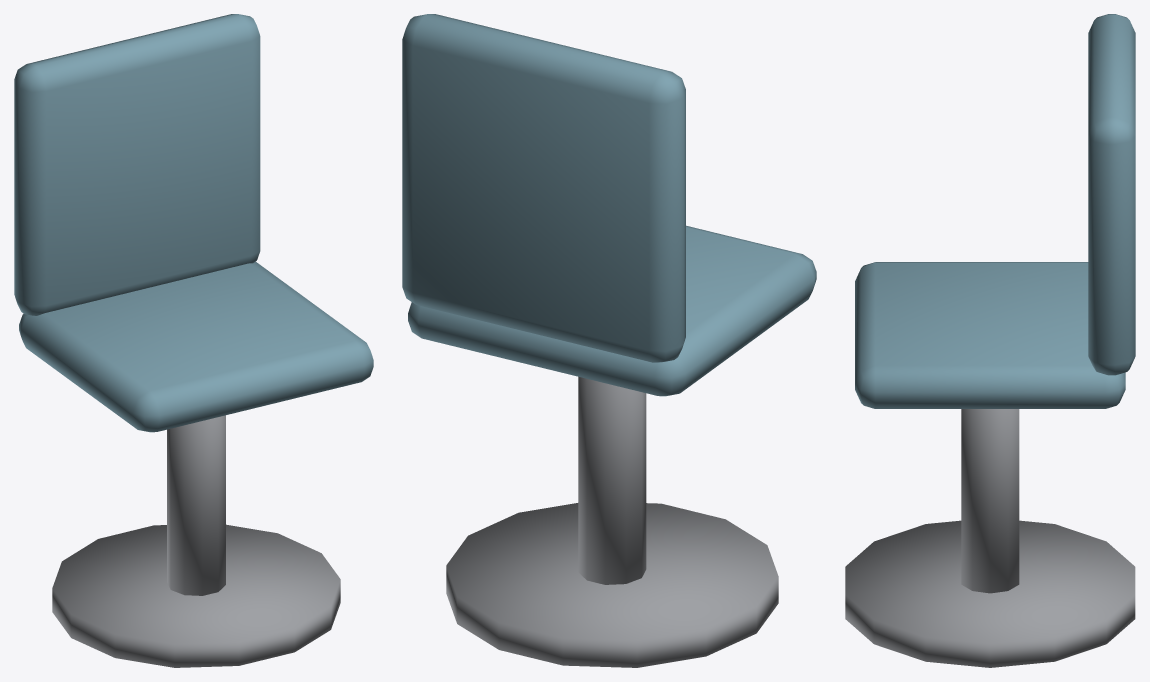
The model's file is chair.glb.
The picture shows the model from 3 angles, left to right: view 1: azimuth 30°, elevation 25°; view 2: azimuth 150°, elevation 25°; view 3: azimuth 270°, elevation 25°; orthographic projection. The views are drawn at different scales.
Parts seen in each view (by area): view 1: chair; view 2: chair; view 3: chair.
Boxes of the visible parts, box(x1,y1,x2,y2) form: chair: box(14, 14, 373, 667); chair: box(402, 14, 816, 667); chair: box(845, 14, 1135, 667).
Bounding box in the file's own units: 0.44 × 0.88 × 0.4295.
